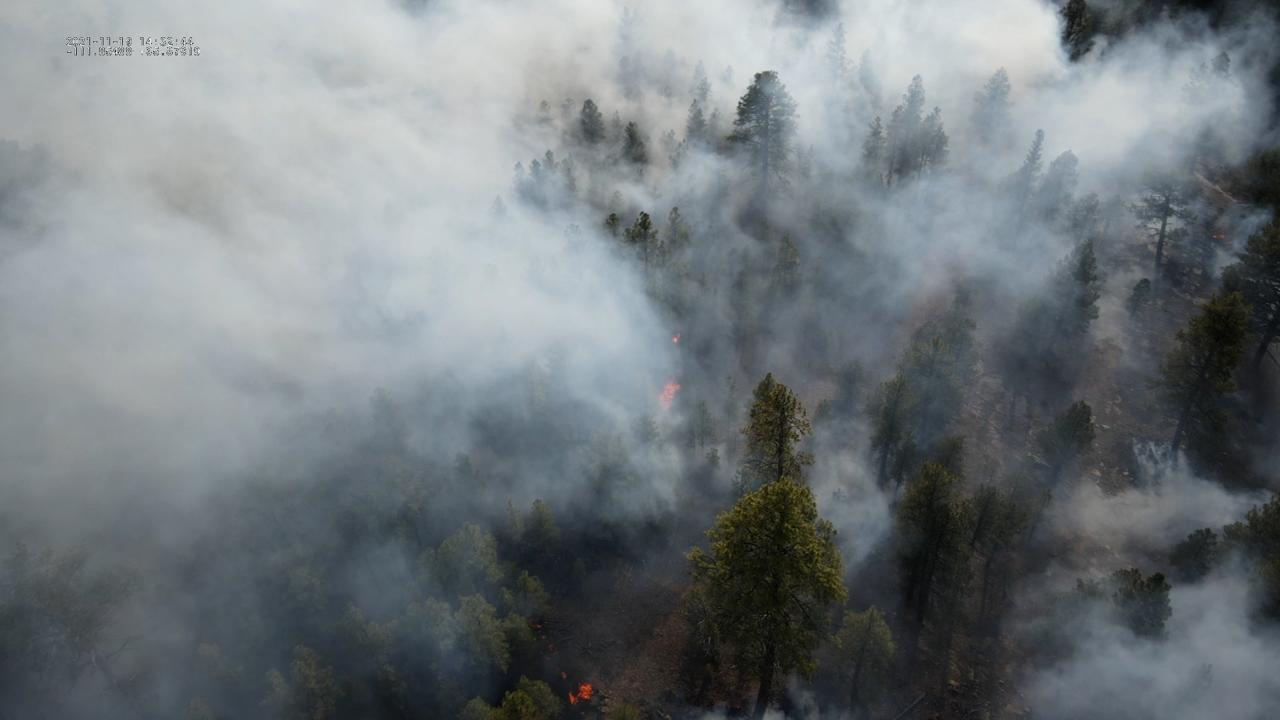fire: (657, 382, 682, 410), (568, 681, 594, 706), (1211, 233, 1227, 241), (545, 642, 555, 652), (671, 334, 680, 345), (560, 671, 568, 680), (531, 624, 543, 630)
smoke: (0, 0, 1280, 720)
